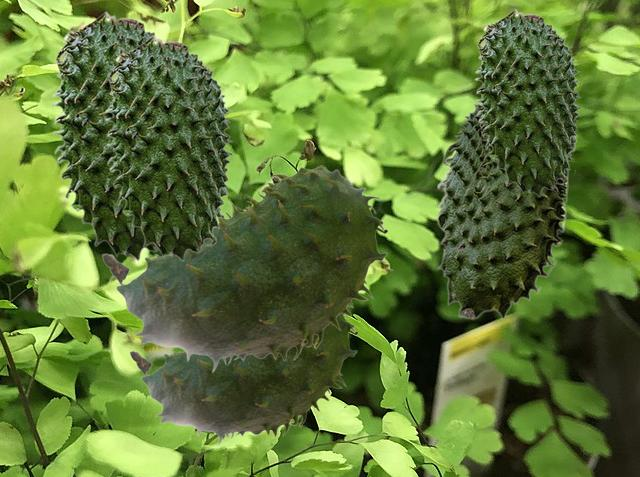guyabano: (101, 166, 387, 372), (129, 305, 357, 445), (435, 101, 576, 319), (104, 34, 233, 260), (51, 10, 162, 260), (474, 8, 581, 196)
